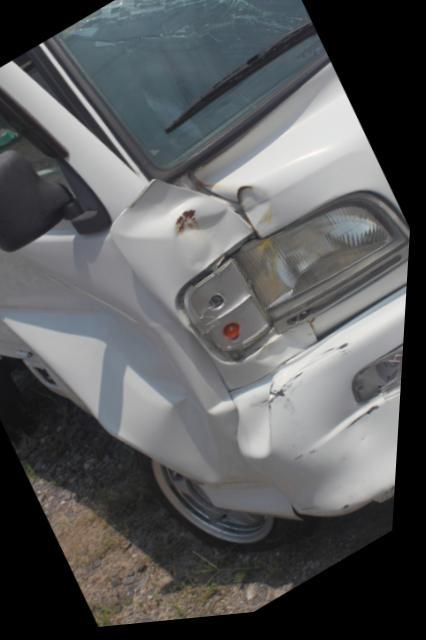crack: (293, 500, 310, 527)
dent: (0, 258, 228, 491), (304, 394, 406, 517), (118, 184, 256, 274), (239, 379, 281, 462), (257, 328, 322, 375), (239, 189, 276, 231)
glass shatter: (55, 0, 326, 174)
lamp broken: (184, 203, 405, 361), (357, 351, 408, 410)
scratch: (274, 346, 351, 416)
